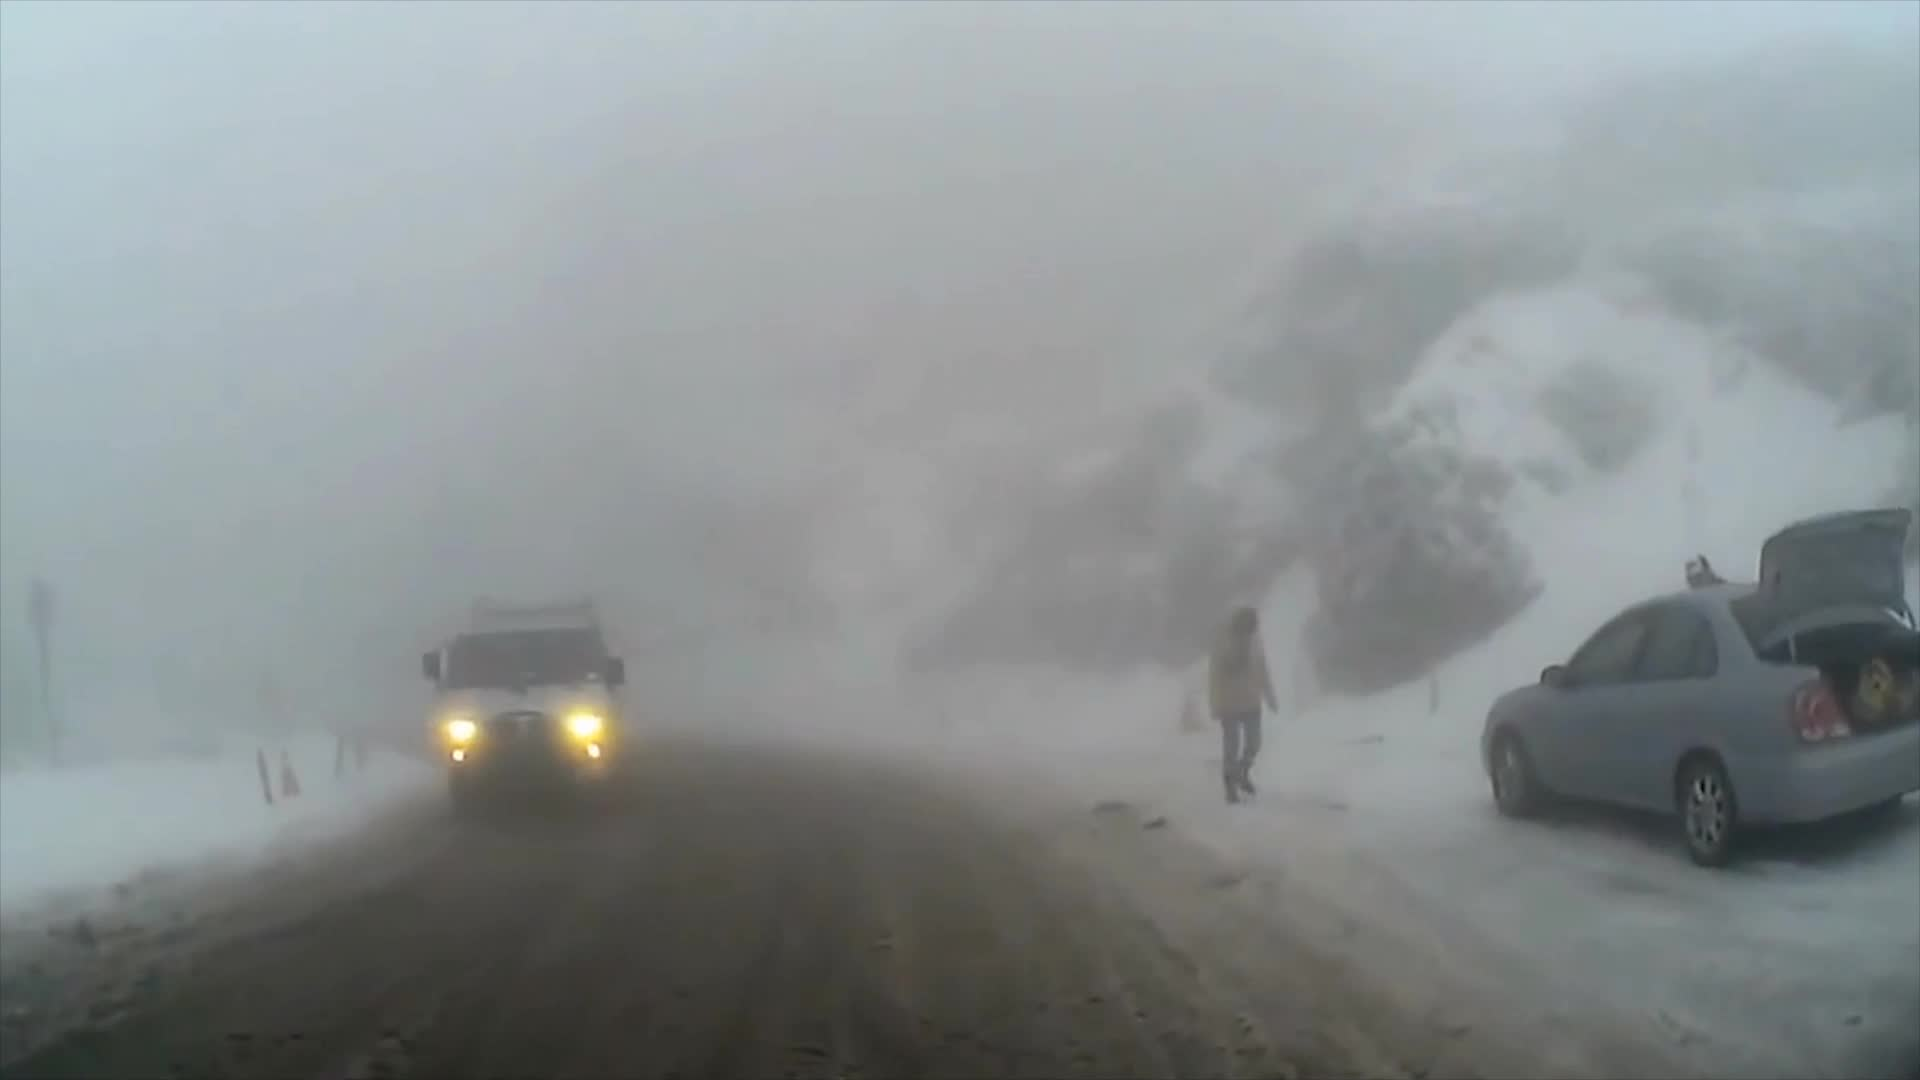pedestrian: (1205, 595, 1282, 799)
vehicle: (1477, 501, 1920, 868), (419, 597, 630, 822)
